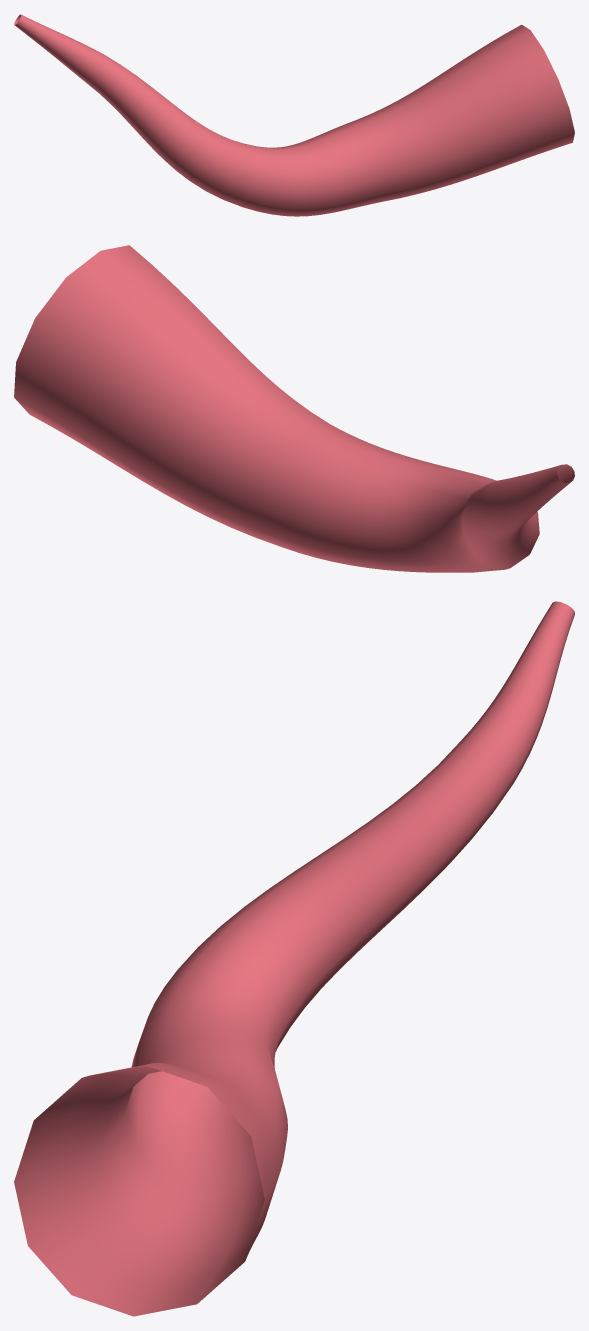
3 views of the same model, one above another, from view 1: azimuth 30°, elevation 25°; view 2: azimuth 150°, elevation 25°; view 3: azimuth 270°, elevation 25° (orthographic). The views are drawn at different scales.
Visible parts, largest first — view 1: ZA_a592495e0c4b6e53; view 2: ZA_a592495e0c4b6e53; view 3: ZA_a592495e0c4b6e53.
Part boxes in pixels (x1,y1,x2,y2): ZA_a592495e0c4b6e53: [14, 14, 574, 216]; ZA_a592495e0c4b6e53: [14, 245, 574, 572]; ZA_a592495e0c4b6e53: [14, 601, 574, 1316].
Size of the model in its own units: 0.0239 by 0.00935 by 0.0132.
